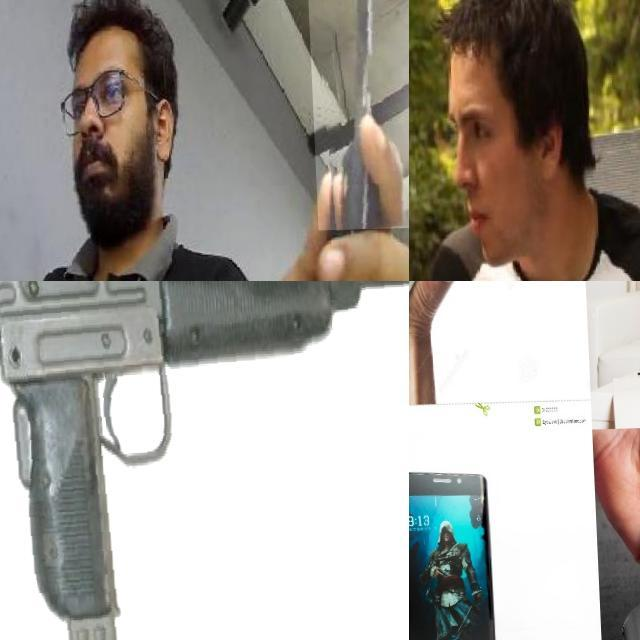-: (298, 0, 409, 232)
gun-knife-thesis - v11 Yolov5 augmented: (0, 281, 409, 640)
